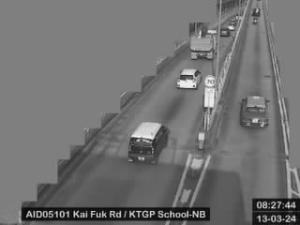motorbike: (254, 17, 258, 23)
truck: (128, 120, 170, 166), (189, 28, 216, 60)
vehicle: (128, 120, 170, 166), (240, 94, 270, 128), (176, 68, 202, 90), (220, 26, 230, 36), (226, 23, 236, 31), (252, 8, 260, 16)
